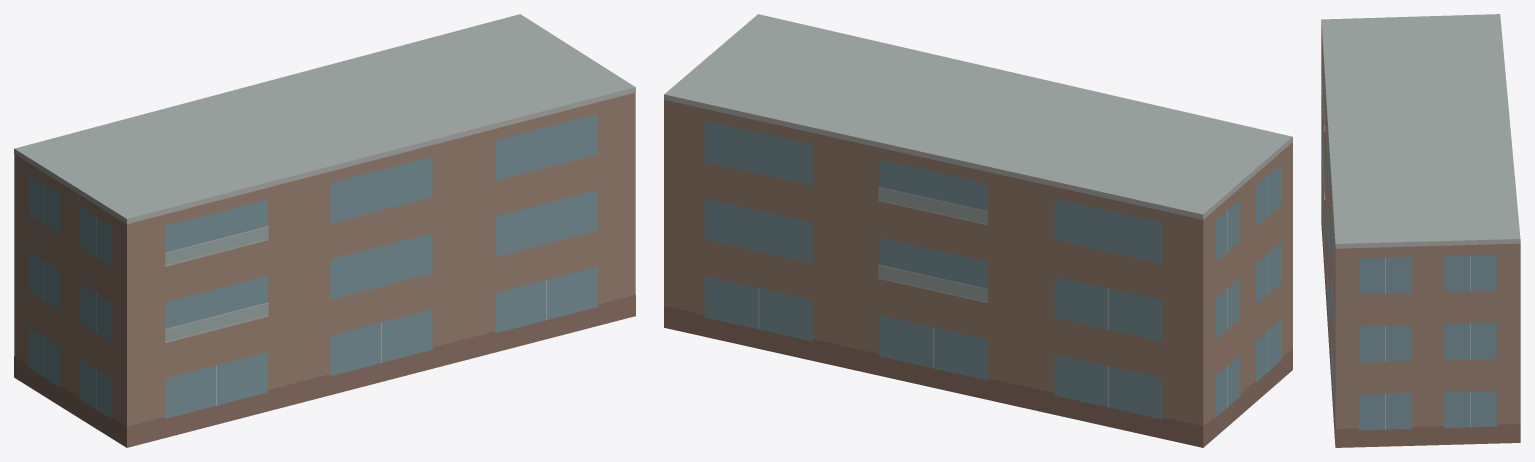
Rendered from survey-upis-32475436.glb.
3 renders of one model, left to right at view 1: azimuth 30°, elevation 25°; view 2: azimuth 150°, elevation 25°; view 3: azimuth 270°, elevation 25°, orthographic. The views are drawn at different scales.
Parts seen in each view (by area): view 1: survey-upis-32475436.tmp; view 2: survey-upis-32475436.tmp; view 3: survey-upis-32475436.tmp.
Part boxes in pixels (<box>): survey-upis-32475436.tmp: <box>14,14,635,447</box>; survey-upis-32475436.tmp: <box>664,14,1292,447</box>; survey-upis-32475436.tmp: <box>1321,14,1520,447</box>.
Size of the model in its own units: 25.9 by 10.7 by 9.48.
